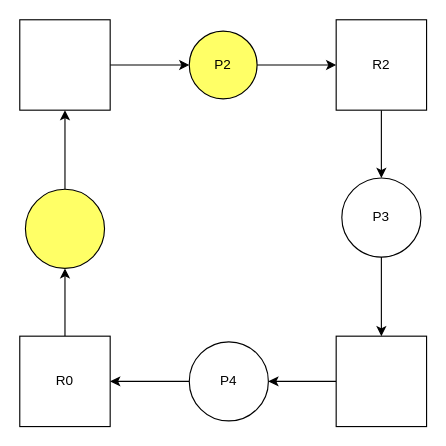
Image size: 446x446. Some labels were removed from this diagram. The centre of each missing label's shape, as x and y in pixels:
"P1" belongs at [64,228].
"R1" belongs at [64,64].
"R3" belongs at [381,381].
